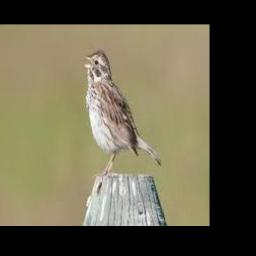Sparrow: (82, 50, 162, 175)
